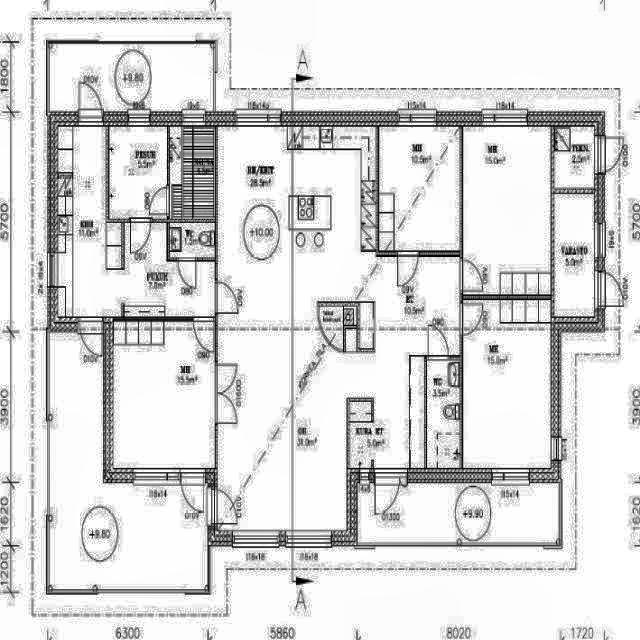room: (114, 321, 215, 468), (463, 300, 551, 468), (463, 127, 551, 294), (379, 127, 459, 251), (109, 126, 167, 219), (554, 194, 594, 317), (170, 127, 215, 219), (427, 360, 459, 468), (554, 127, 594, 187), (170, 223, 215, 256)
